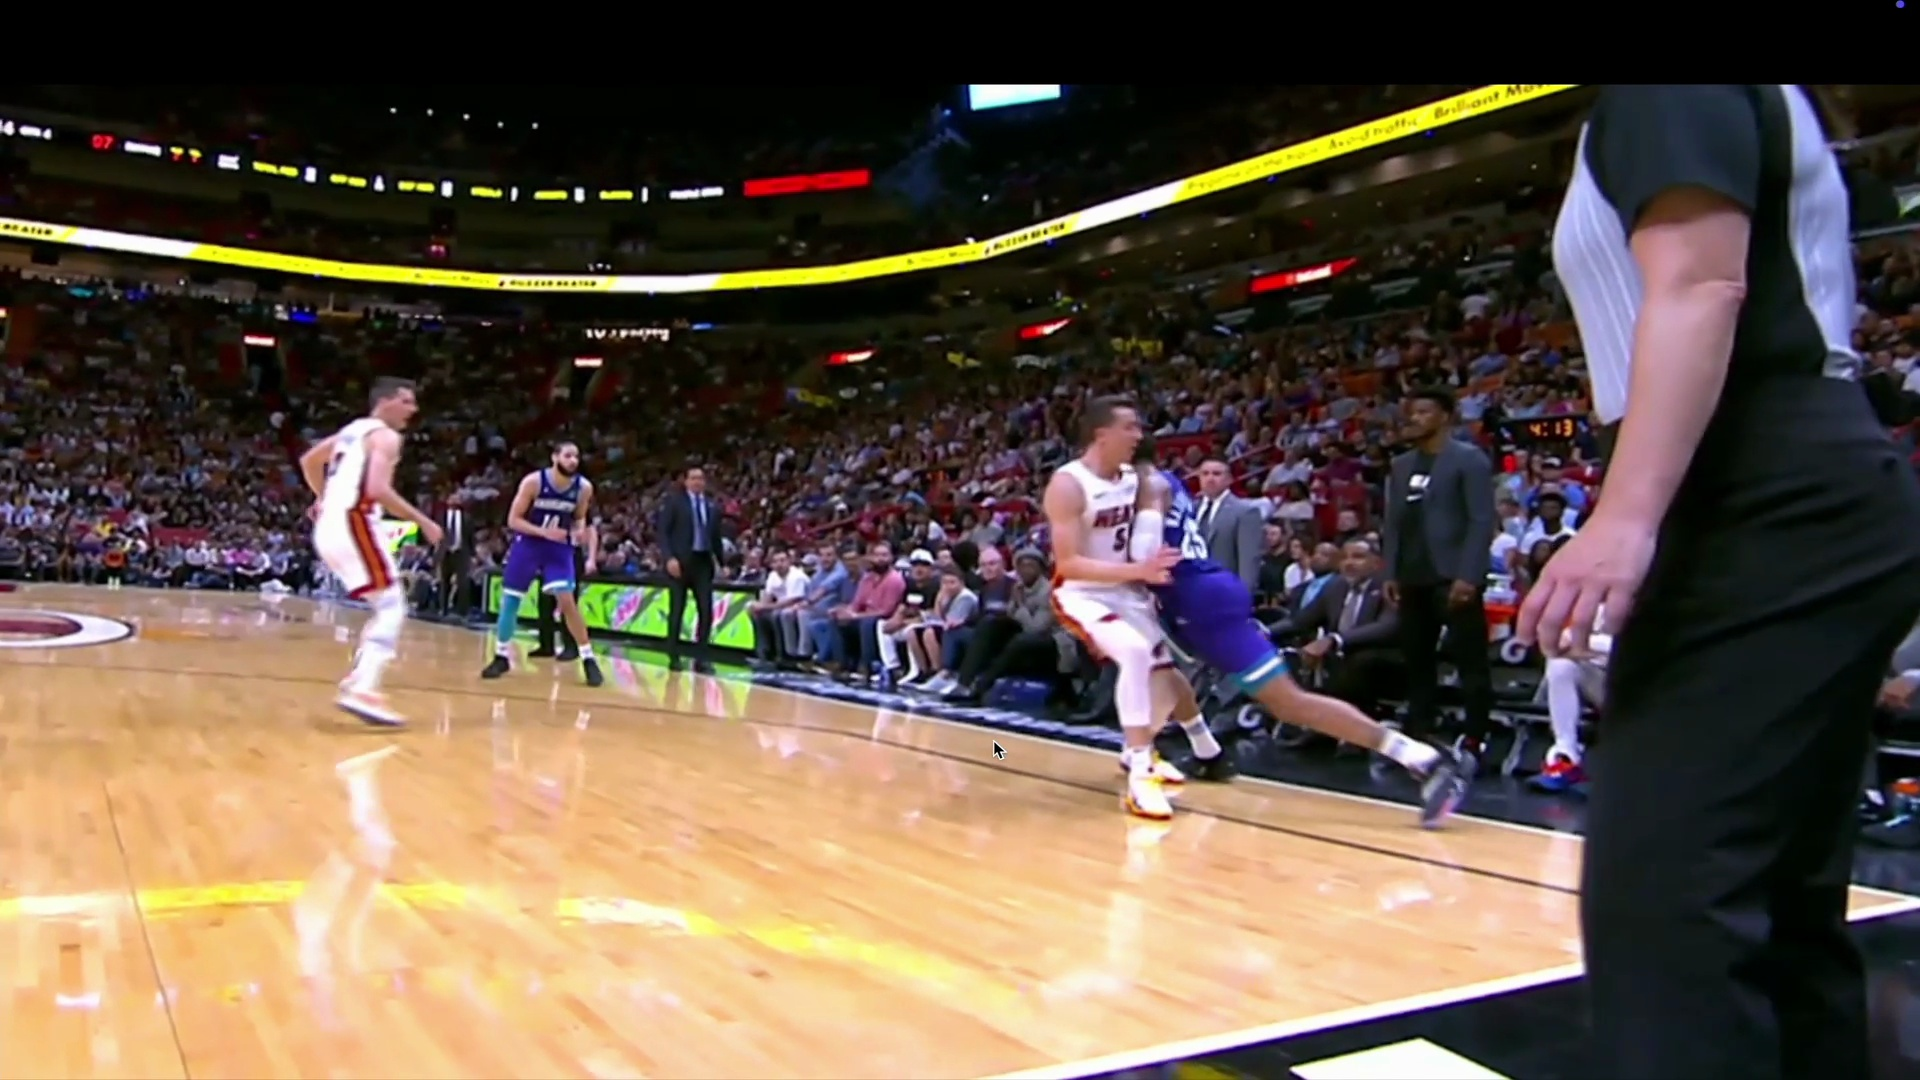Foul_moment: (1071, 463, 1195, 576)
Player: (1043, 406, 1234, 823), (294, 365, 442, 734), (505, 424, 608, 688)
